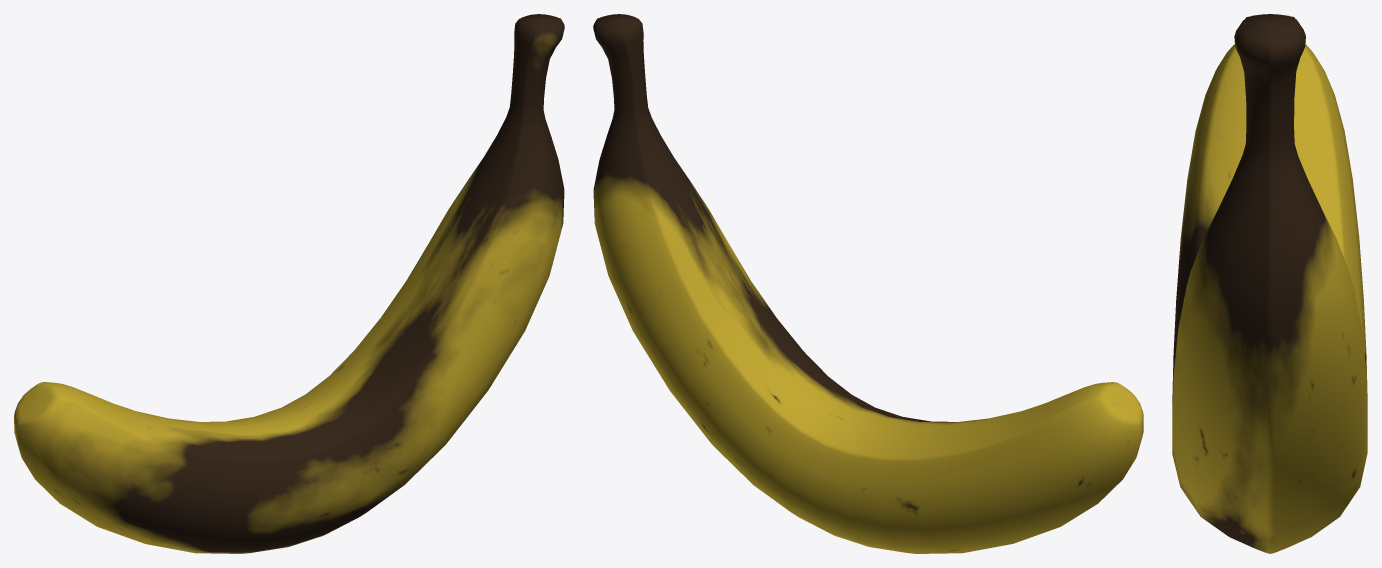
The model's file is Banana.gltf.
The picture shows the model from 3 angles, left to right: view 1: azimuth 30°, elevation 25°; view 2: azimuth 150°, elevation 25°; view 3: azimuth 270°, elevation 25°; orthographic projection. The views are drawn at different scales.
Parts seen in each view (by area): view 1: Banana; view 2: Banana; view 3: Banana.
Part boxes in pixels (<box>): Banana: <box>14,14,564,553</box>; Banana: <box>593,14,1143,553</box>; Banana: <box>1172,14,1367,553</box>.
Size of the model in its own units: 1.59 by 1.29 by 0.3305.
1 material, 1 textured.
